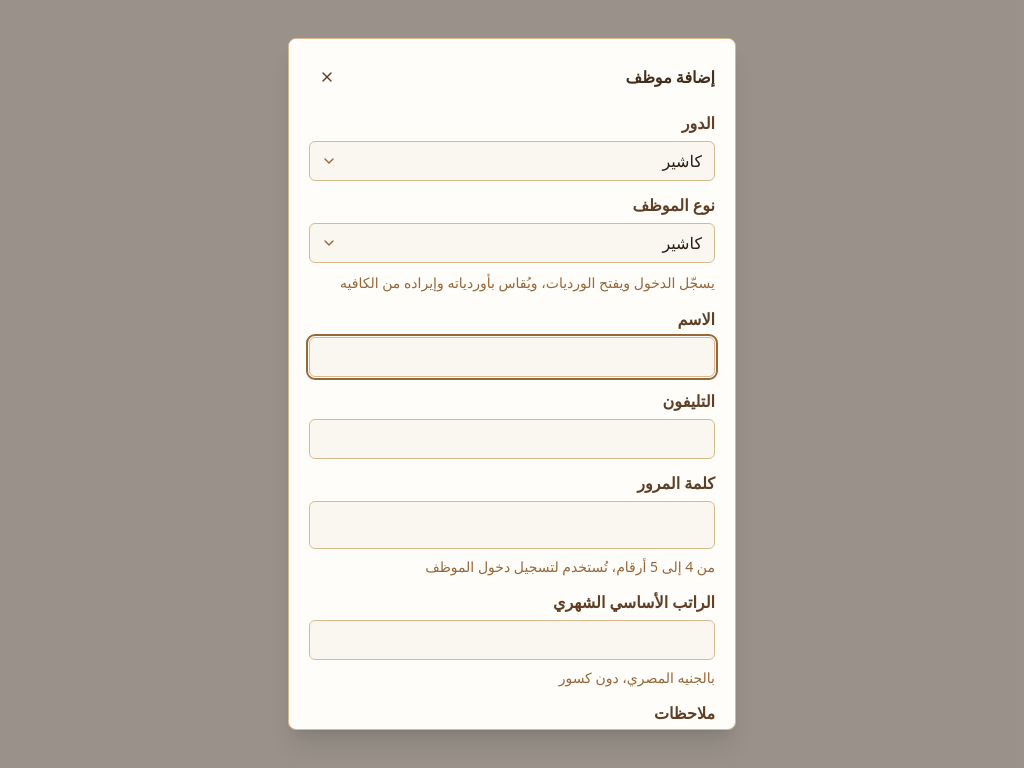
Test: EmployeeDialog — the credential field › reveals through the shared toggle, operating on the dialog’s own value
The image size is (1024, 768).
Type "2214" into the password field labelled "كلمة المرور" at (512, 524), box [309,500,715,548]
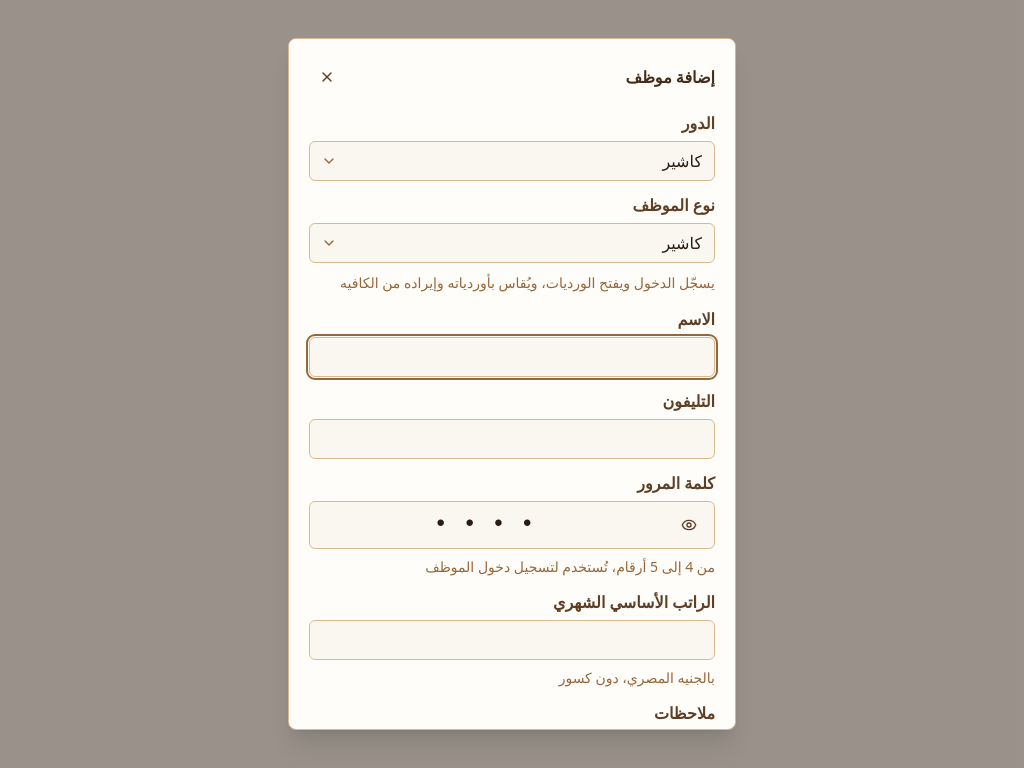
Click the button named "إظهار كلمة المرور" at (689, 524), box [671,506,707,542]
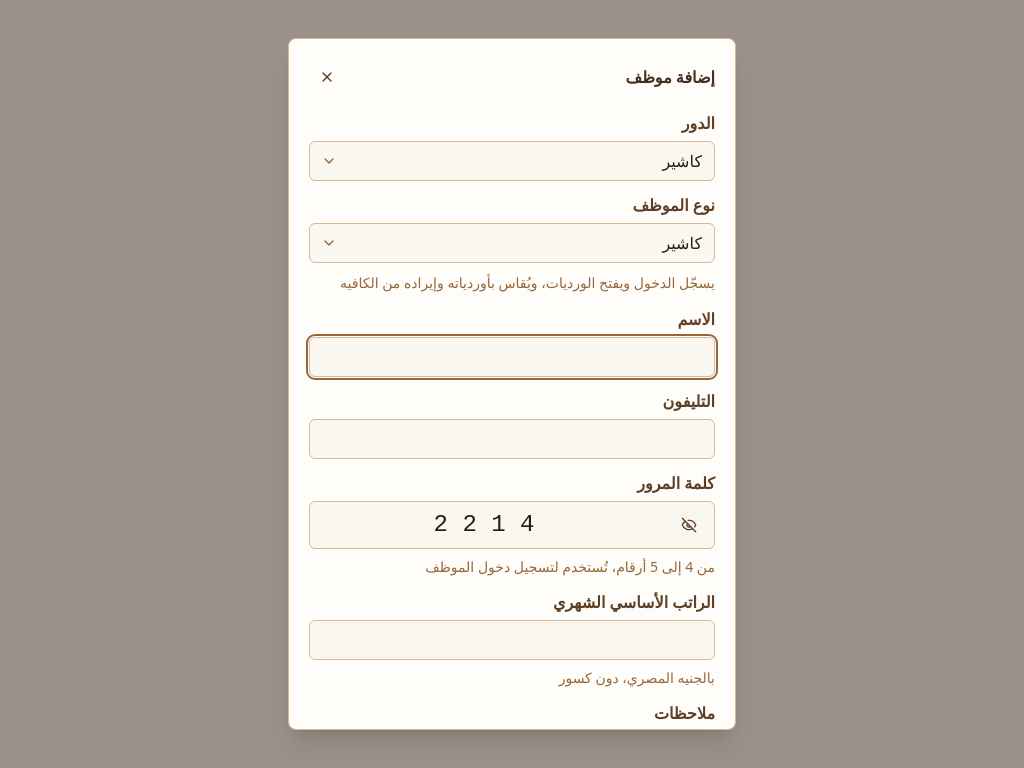
Expected: the field labelled "كلمة المرور" shows its text, [309,500,715,548]
Click the button named "إخفاء كلمة المرور" at (689, 524), box [671,506,707,542]
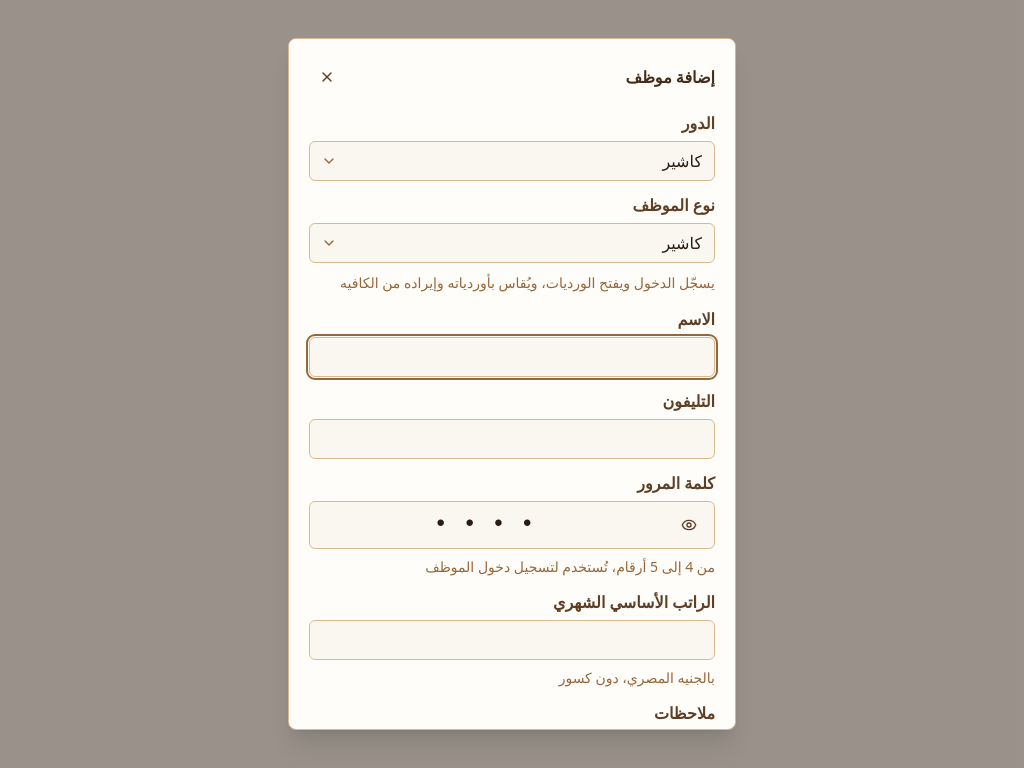
Expected: the password field labelled "كلمة المرور" hides its text, [309,500,715,548]
